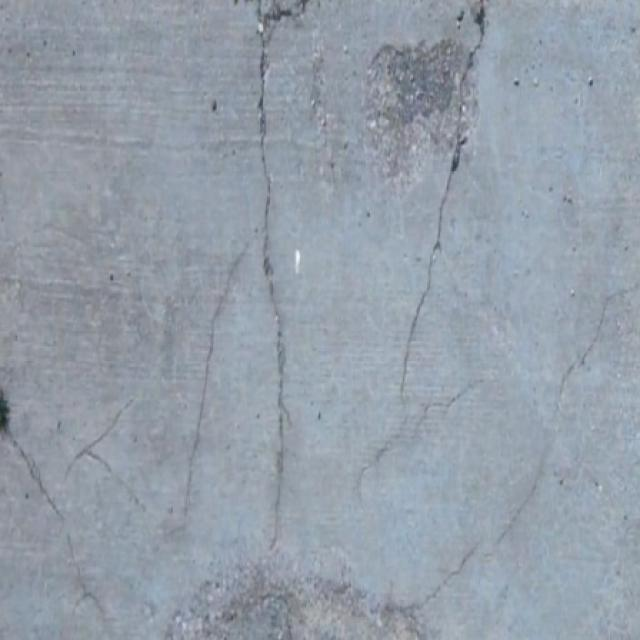Diagonal Crack: (490, 281, 640, 557), (64, 395, 150, 514), (0, 412, 69, 526), (389, 536, 481, 614)
Vertical Crack: (184, 0, 315, 552), (354, 0, 494, 511)
